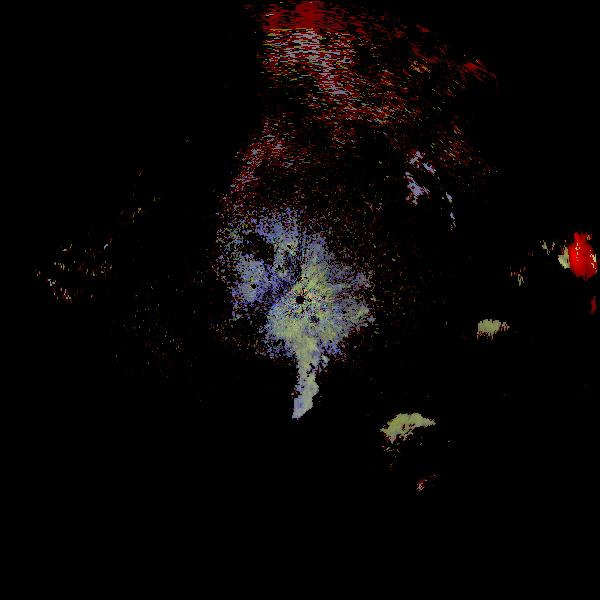roost: (353, 383, 497, 527)
